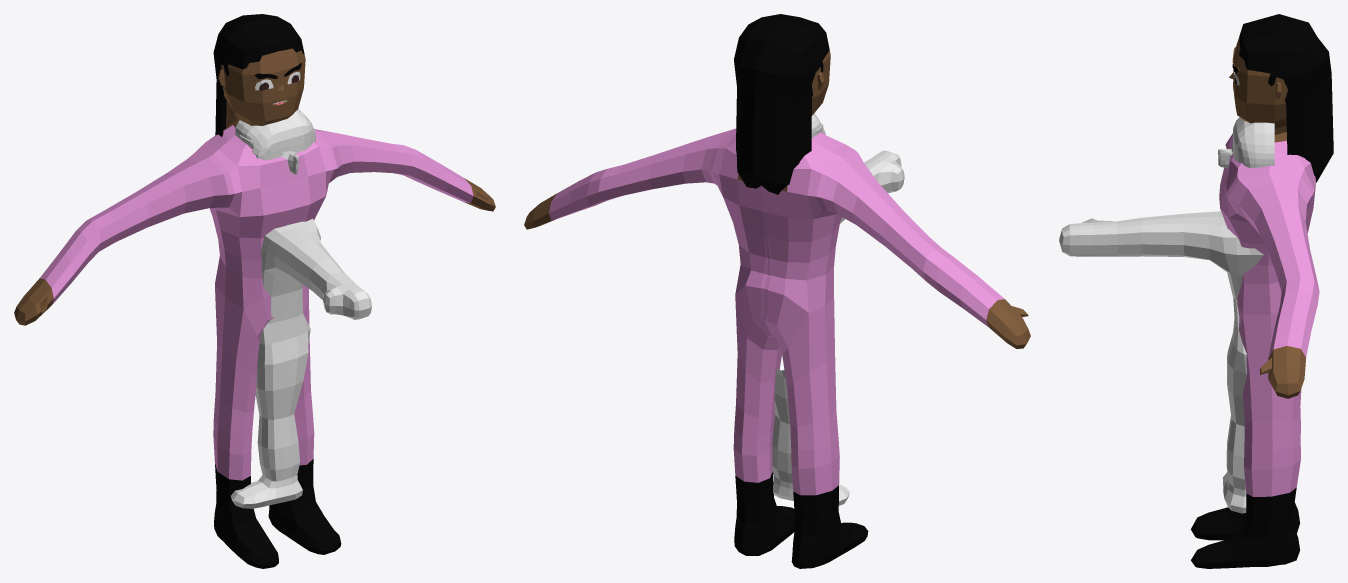
3 renders of one model, left to right at view 1: azimuth 30°, elevation 25°; view 2: azimuth 150°, elevation 25°; view 3: azimuth 270°, elevation 25°, orthographic. The views are drawn at different scales.
Parts seen in each view (by area): view 1: superspy2, Cube; view 2: superspy2, Cube; view 3: superspy2, Cube.
Boxes of the visible parts, x1,y1,x2,y2 form: superspy2: (14, 14, 495, 568); Cube: (231, 108, 371, 508); superspy2: (524, 14, 1030, 568); Cube: (772, 113, 904, 505); superspy2: (1191, 14, 1333, 568); Cube: (1059, 117, 1274, 513).
Size of the model in its own units: 11.23 by 11.58 by 5.45.
